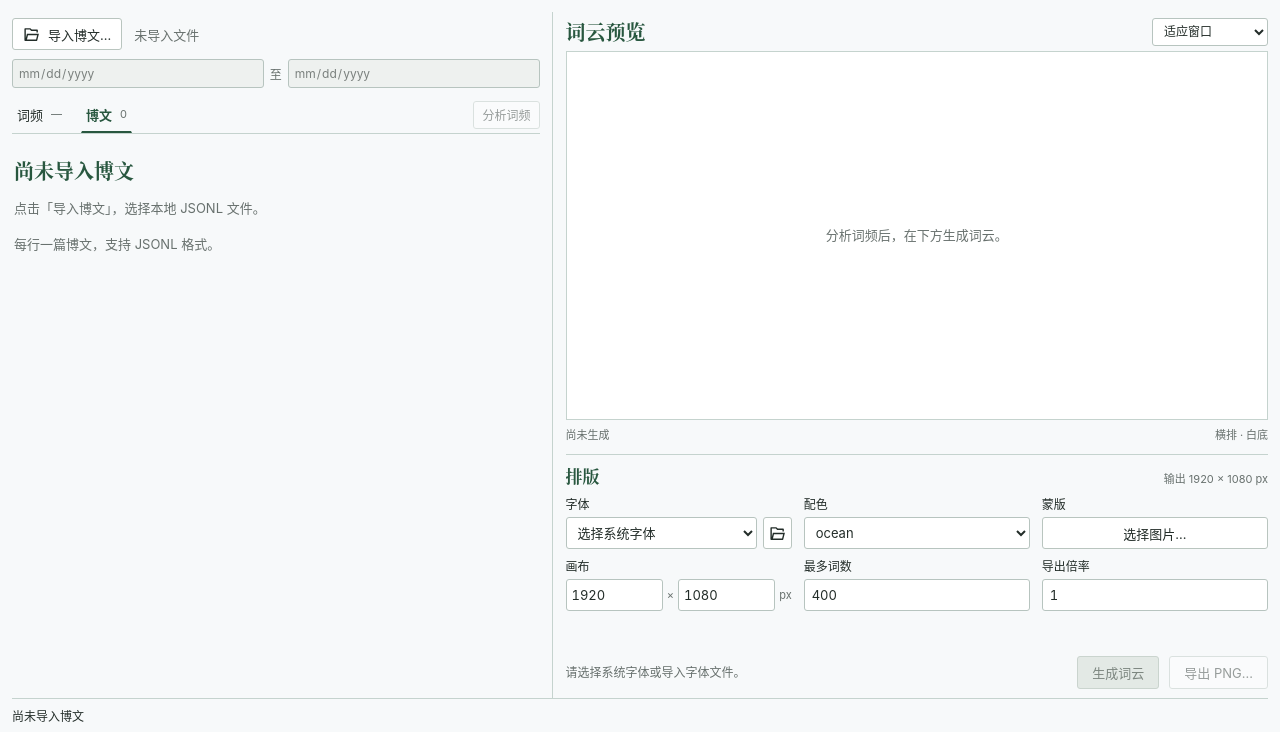
Scenario: 词表未保存时切换页面和返回都需要处理草稿；放弃不影响原分析
Later steps or results of the test are not shown.
Click the button "导入博文…" at [67, 34], box 12,18 -> 122,50
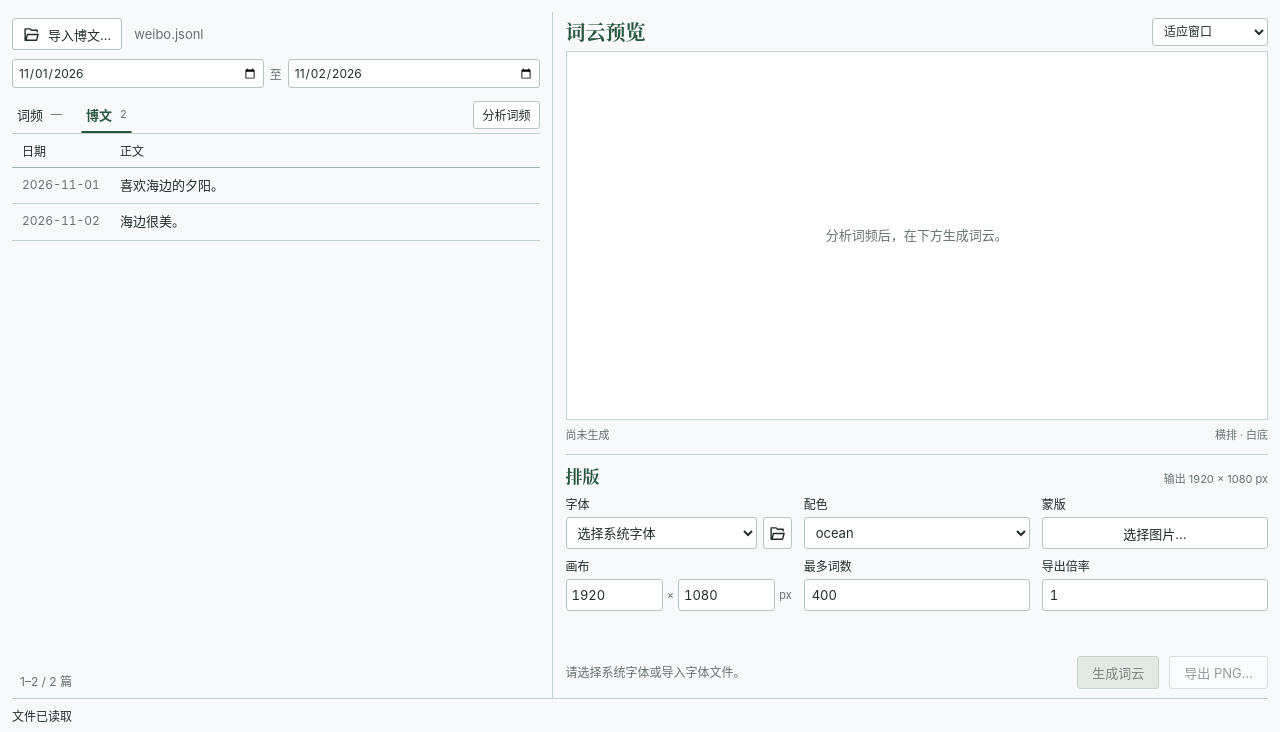
Click the button "分析词频" at [506, 114], box 474,100 -> 540,128
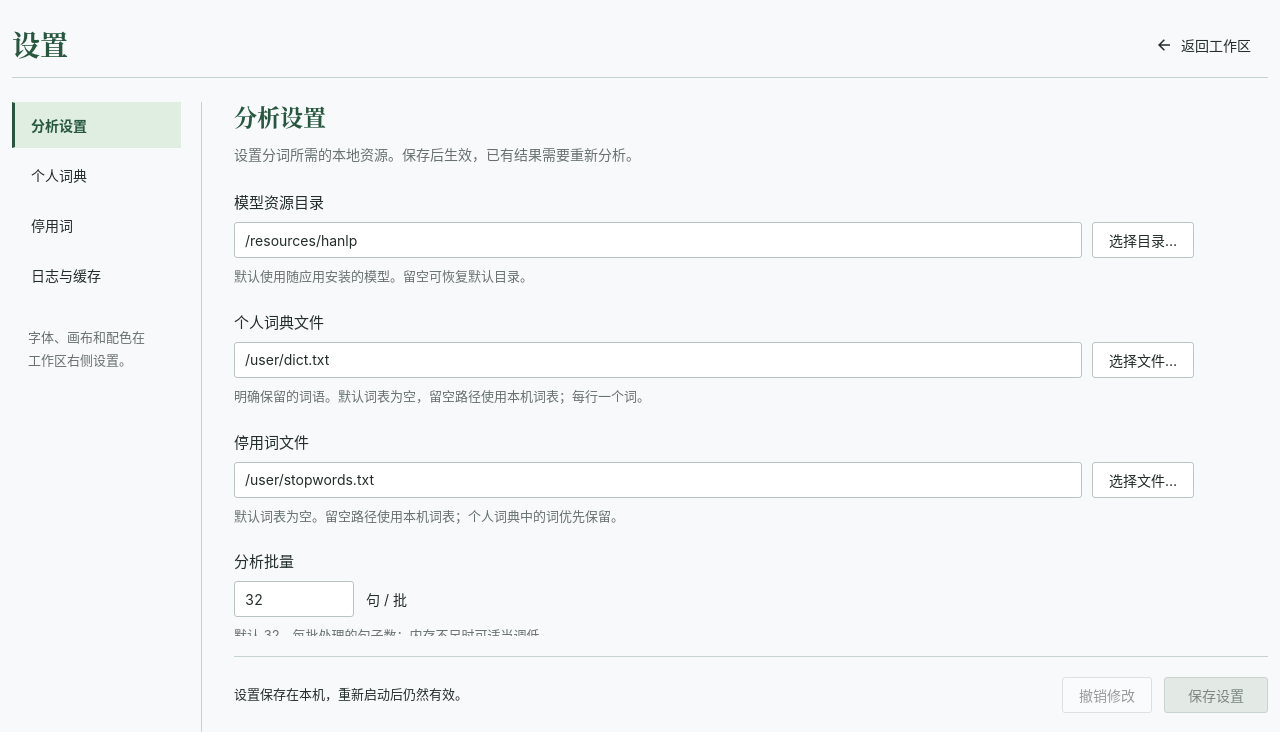
Result: the number field labelled "分析批量" is shown at 234,582 -> 354,618
Click the button "个人词典" at [96, 175], box 12,152 -> 181,198
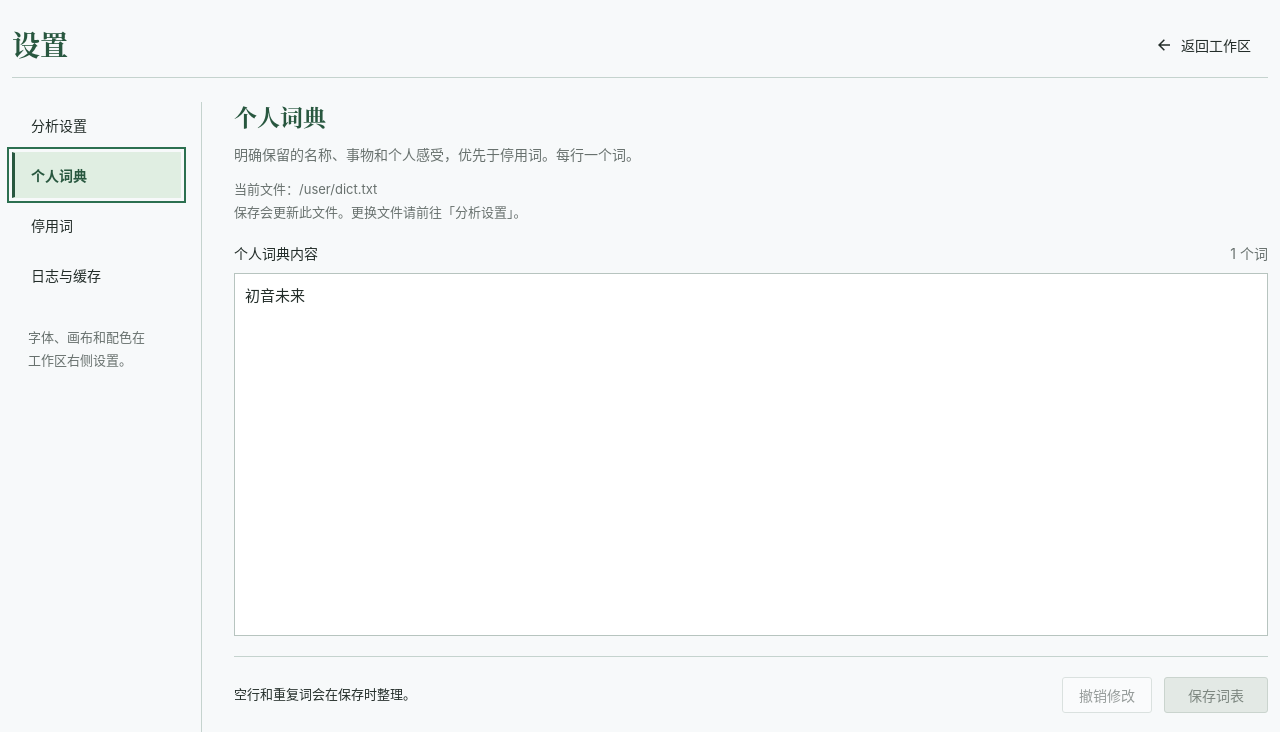
Type "夕阳" into the text box labelled "个人词典内容 1 个词" at [751, 454], box 234,273 -> 1268,636
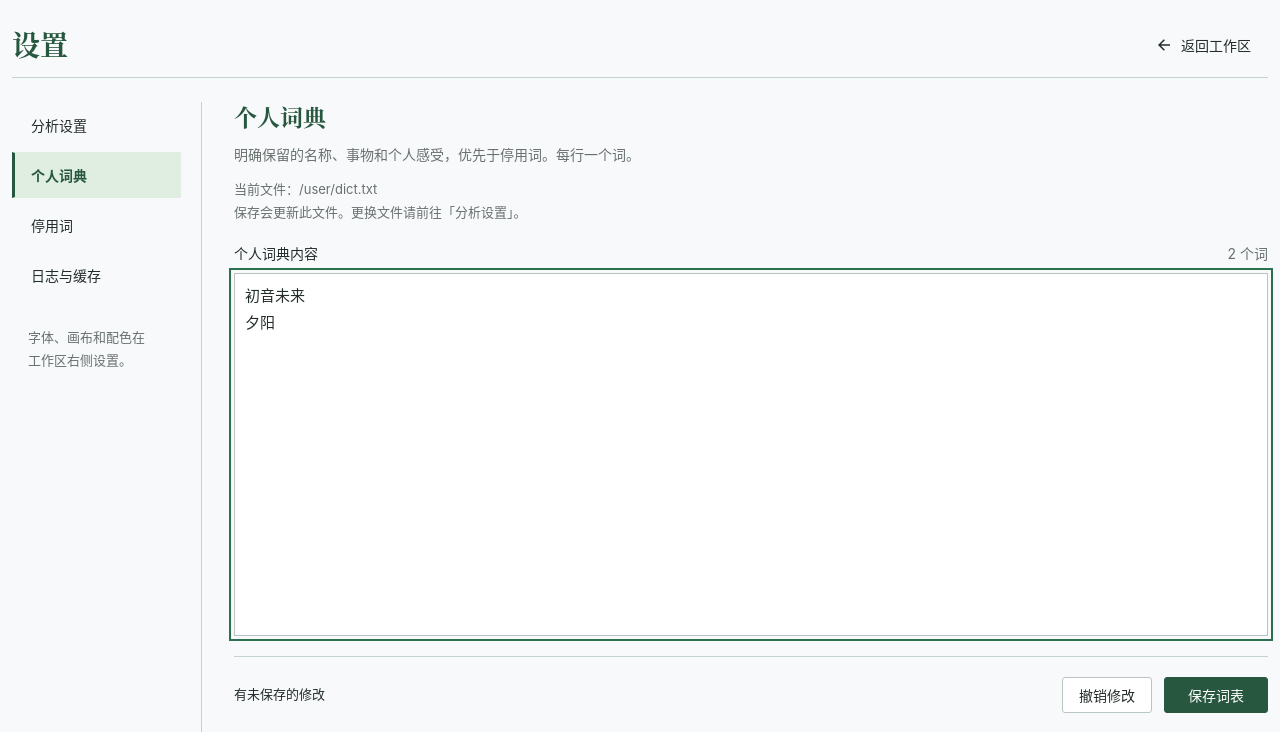
Click the button "停用词" at [96, 225], box 12,202 -> 181,248
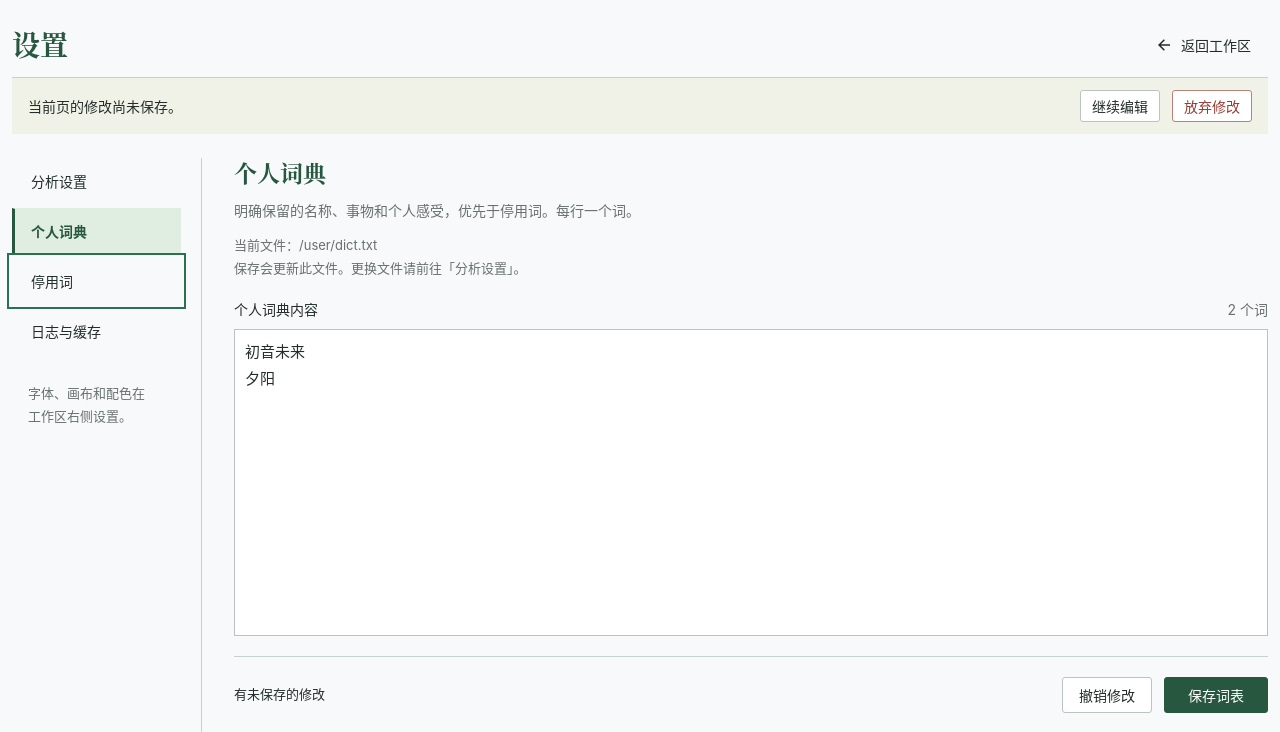
Result: the text "当前页的修改尚未保存。" is shown at 28,96 -> 182,116
